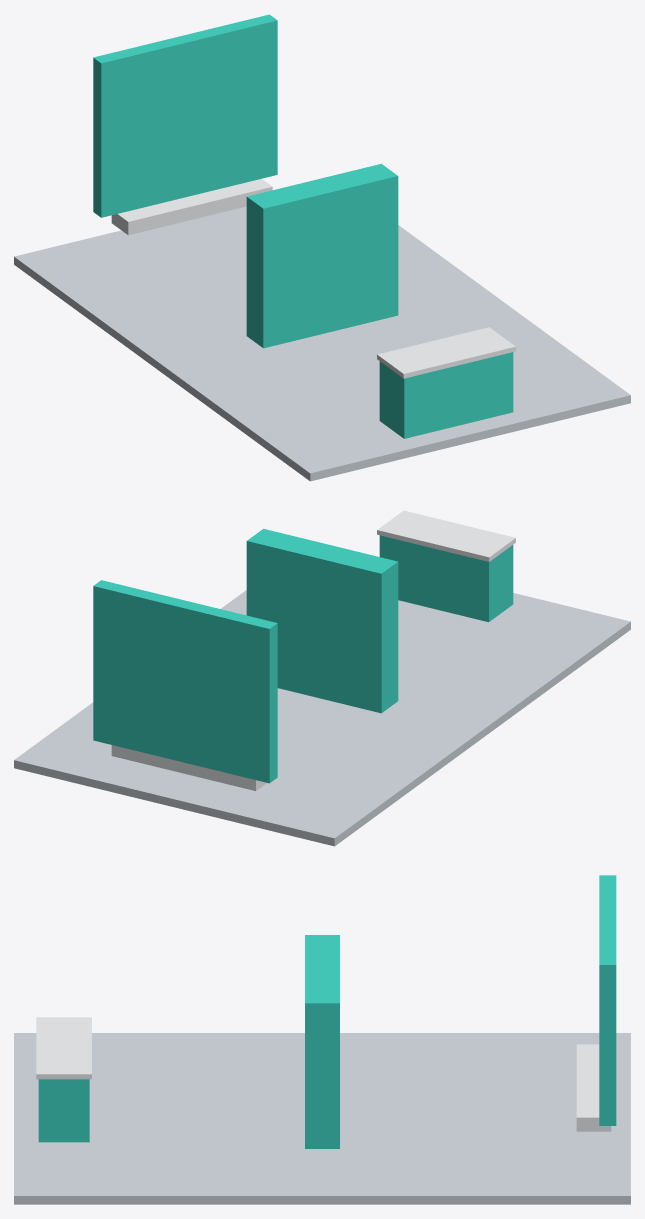
3 views of the same model, one above another, from view 1: azimuth 30°, elevation 25°; view 2: azimuth 150°, elevation 25°; view 3: azimuth 270°, elevation 25° (orthographic). The views are drawn at different scales.
Parts seen in each view (by area): view 1: Exhibition Booth Concept; view 2: Exhibition Booth Concept; view 3: Exhibition Booth Concept.
Boxes of the visible parts, <box> form: Exhibition Booth Concept: <box>14,14,630,481</box>; Exhibition Booth Concept: <box>14,510,630,846</box>; Exhibition Booth Concept: <box>14,875,630,1204</box>.
Size of the model in its own units: 5 by 2.9 by 8.
